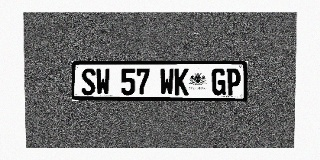5: (121, 68, 135, 95)
7: (136, 68, 150, 95)
G: (212, 68, 226, 95)
K: (174, 68, 189, 95)
P: (226, 68, 241, 95)
S: (81, 68, 96, 95)
W: (96, 68, 110, 95), (160, 68, 174, 95)
